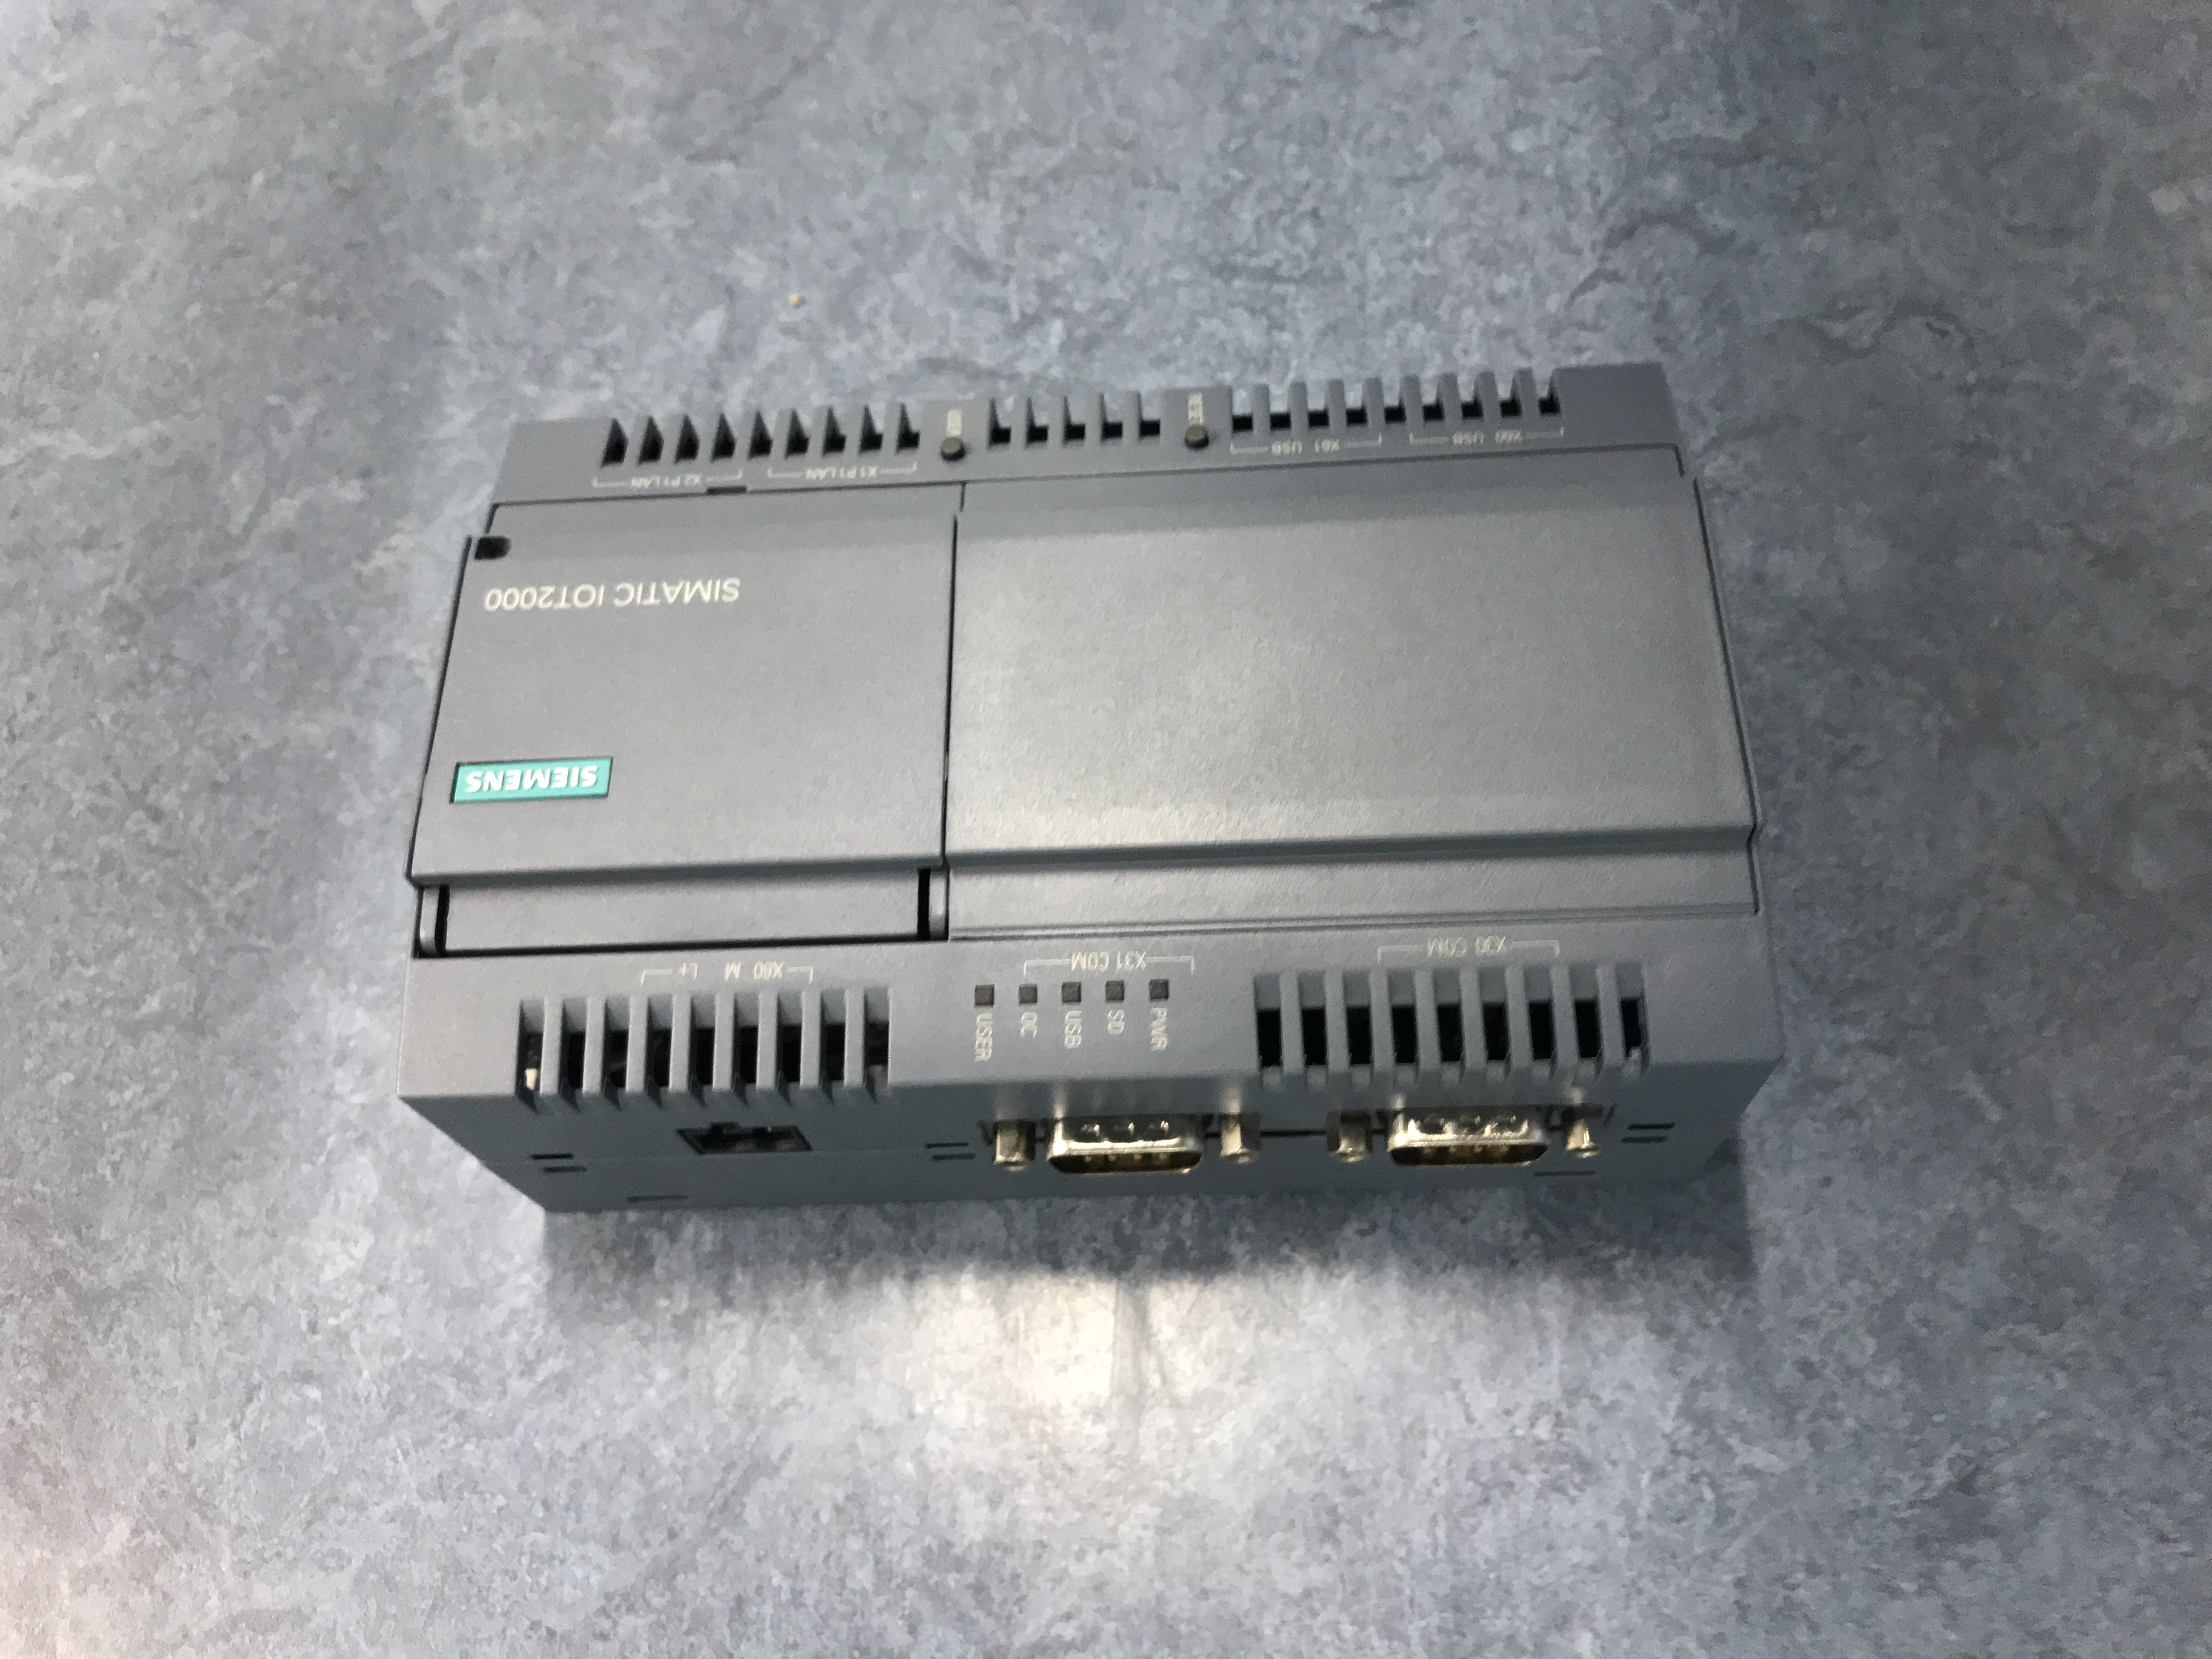device: (395, 359, 1789, 1216)
